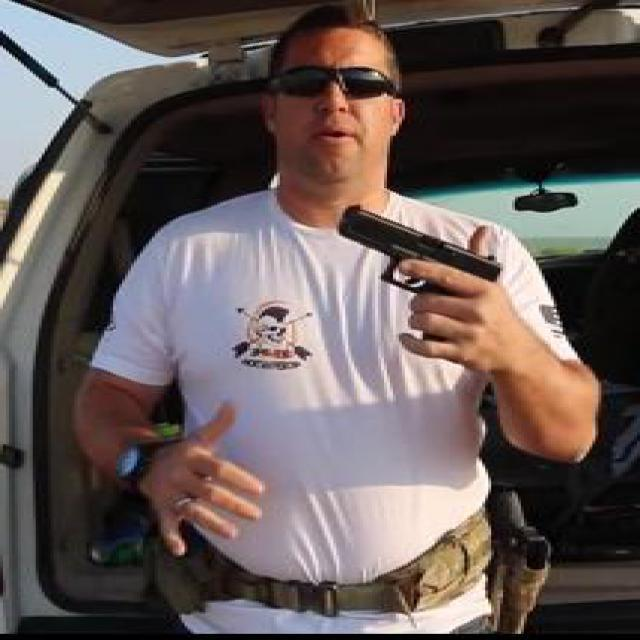Gun: (339, 202, 509, 352)
